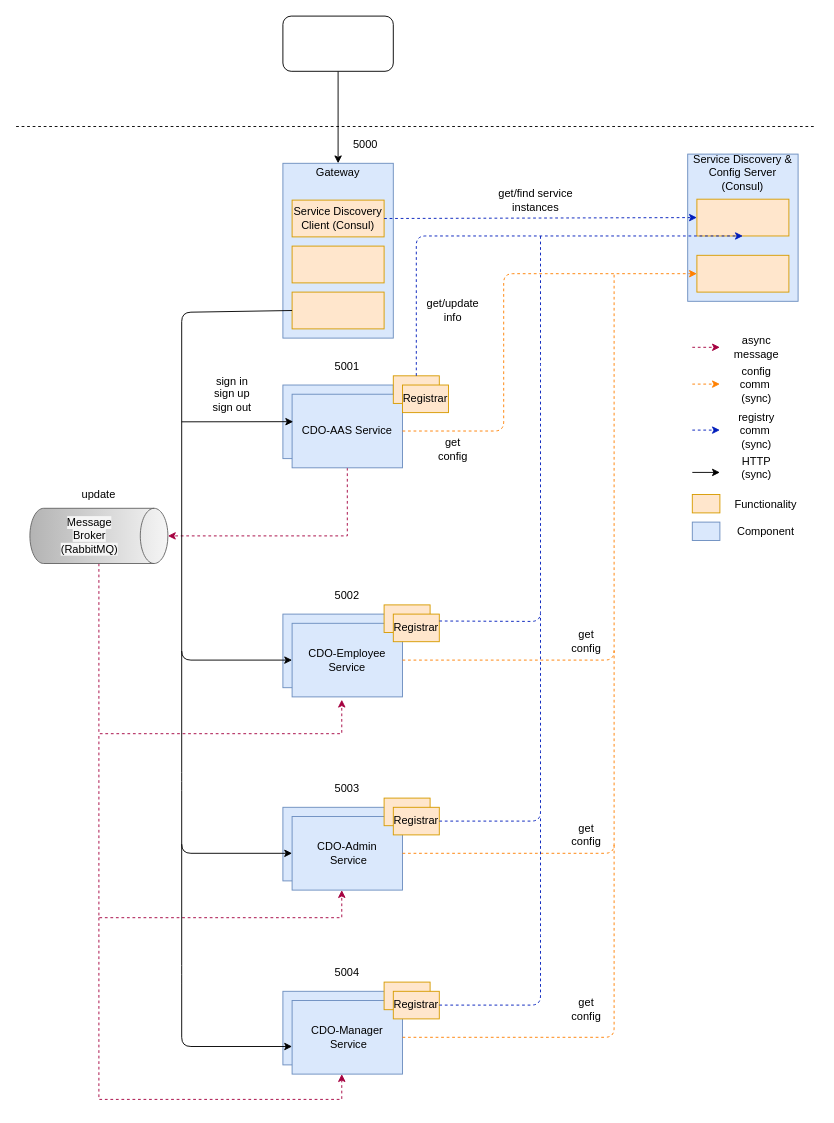
This 834x1123 diagram has some shape labels left out. Here are the shapes that lost their labels. From the top down, the box of each, then its label:
(282, 15, 393, 71): Browser
(696, 198, 789, 236): Registry
(291, 245, 384, 283): Spring Cloud Load Balancer
(696, 254, 789, 292): Centralized Configuration
(291, 291, 384, 329): Spring Cloud Gateway
